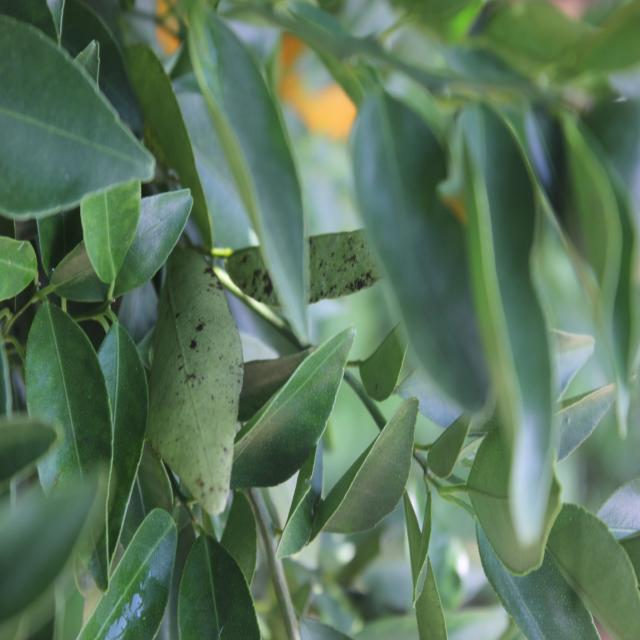melanose: (146, 250, 253, 538), (228, 202, 430, 310)
